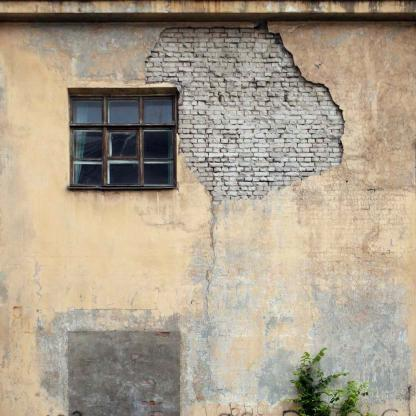Building Outline: (0, 0, 416, 416)
Dont: (285, 347, 380, 416)
Facade: (0, 0, 416, 416)
Floor: (0, 12, 416, 249)
Floor Slab: (0, 249, 416, 260)
Ground Floor: (0, 260, 416, 416)
Window: (68, 88, 178, 188)
